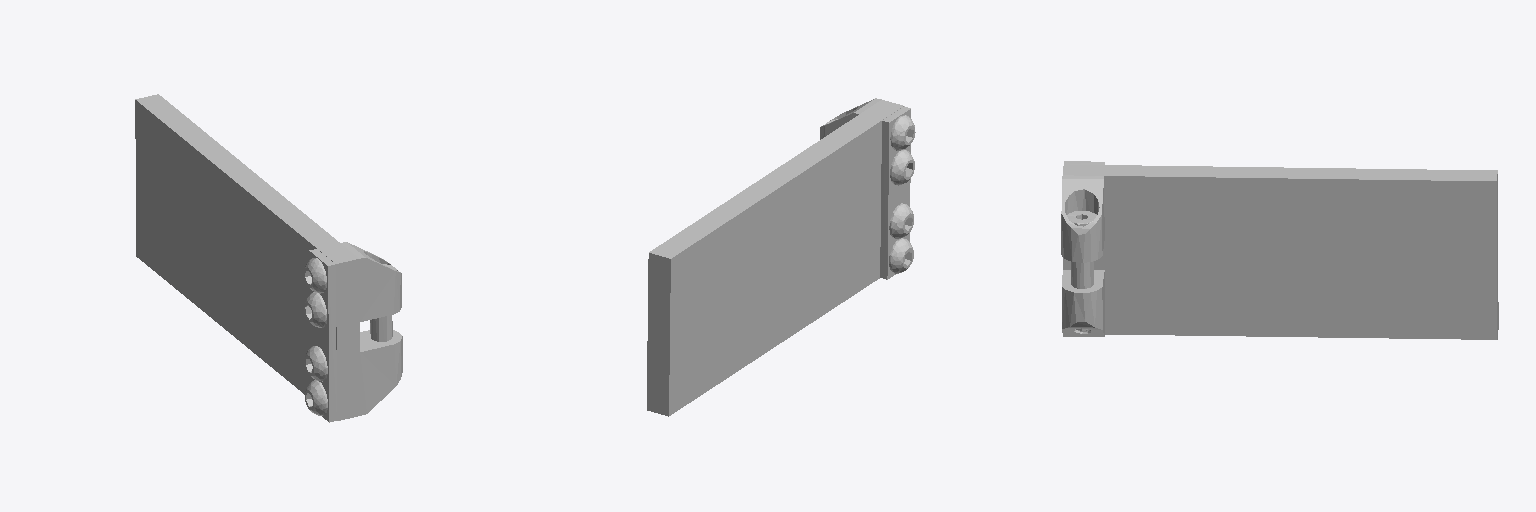
The model's file is left_heel_spring.obj.
The picture shows the model from 3 angles: view 1: azimuth 30°, elevation 25°; view 2: azimuth 150°, elevation 25°; view 3: azimuth 270°, elevation 25°; orthographic projection.
Visible parts, largest first — view 1: left_heel_spring; view 2: left_heel_spring; view 3: left_heel_spring.
Part boxes in pixels (x1,y1,x2,y2): left_heel_spring: (135,94,402,422); left_heel_spring: (647,98,915,416); left_heel_spring: (1061,161,1498,339).
Size of the model in its own units: 0.0298 by 0.0507 by 0.1255.